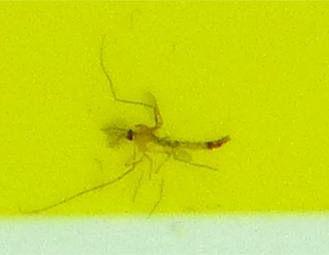Nematocera: (100, 100, 229, 155)
